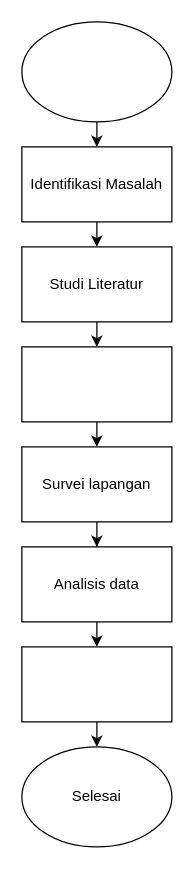
Some shapes in this 194 by 869 pixel diagram are drawn without their labels. The centre of each missing label's shape, as x and y in pixels:
Mulai: (96,71)
Pengumpulan data: (96,384)
Validasi hasil: (96,684)
